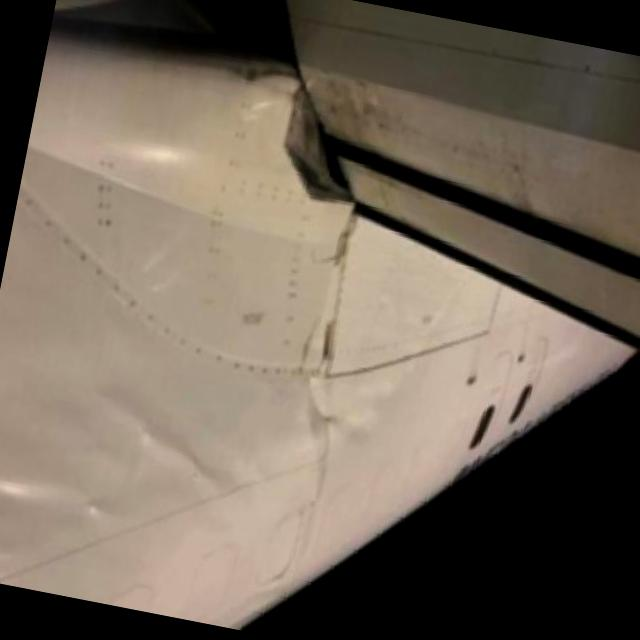dent: (118, 418, 256, 528), (296, 352, 401, 460), (0, 459, 104, 535), (110, 136, 198, 200), (0, 515, 19, 583)
